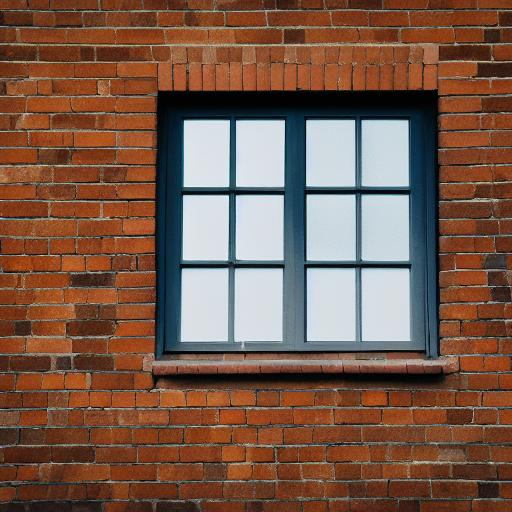Window: (147, 64, 459, 379)
